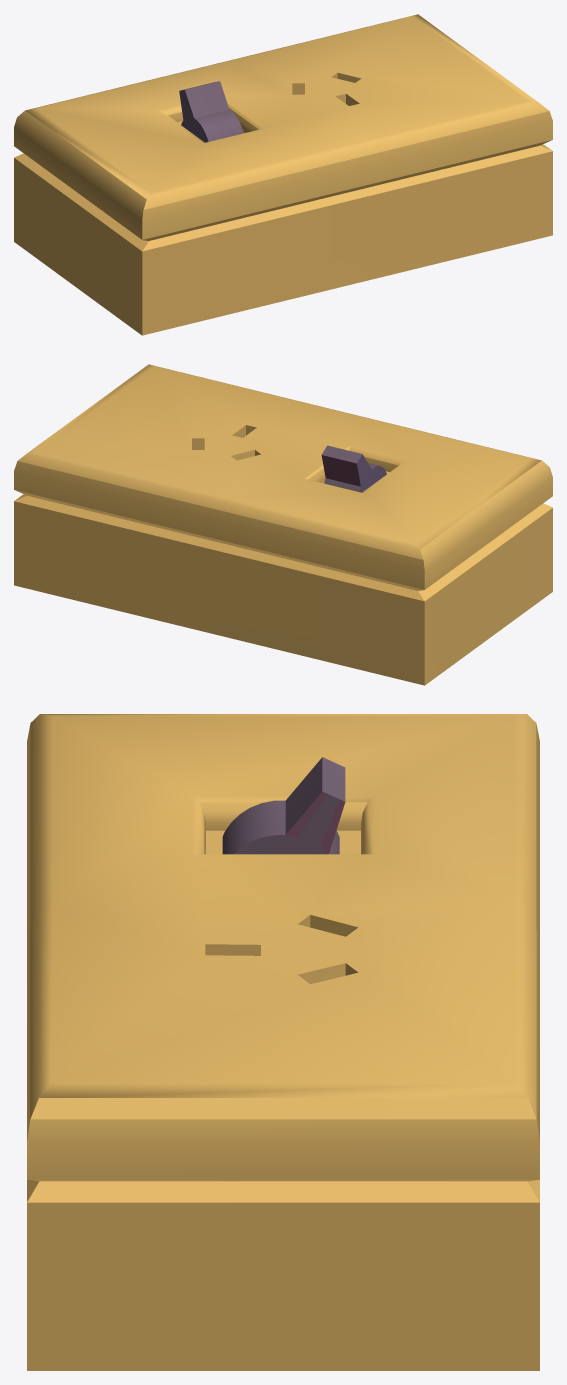
File: power plug.fbx
The picture shows the model from 3 angles, top to bottom: view 1: azimuth 30°, elevation 25°; view 2: azimuth 150°, elevation 25°; view 3: azimuth 270°, elevation 25°; orthographic projection. The views are drawn at different scales.
Parts seen in each view (by area): view 1: Cube.003; view 2: Cube.003; view 3: Cube.003.
Boxes of the visible parts, box(x1,y1,x2,y2) form: Cube.003: box(14, 14, 552, 335); Cube.003: box(14, 364, 552, 685); Cube.003: box(27, 714, 539, 1370).
Bounding box in the file's own units: 200 × 76.01 × 108.
